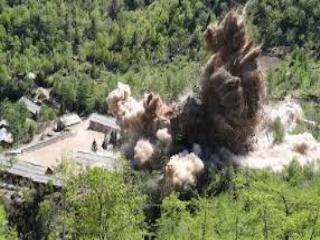smoke: (105, 7, 311, 195)
